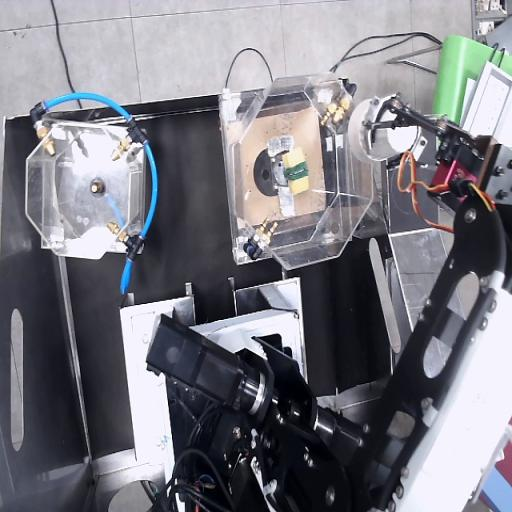cup in wash station: (347, 96, 418, 163)
